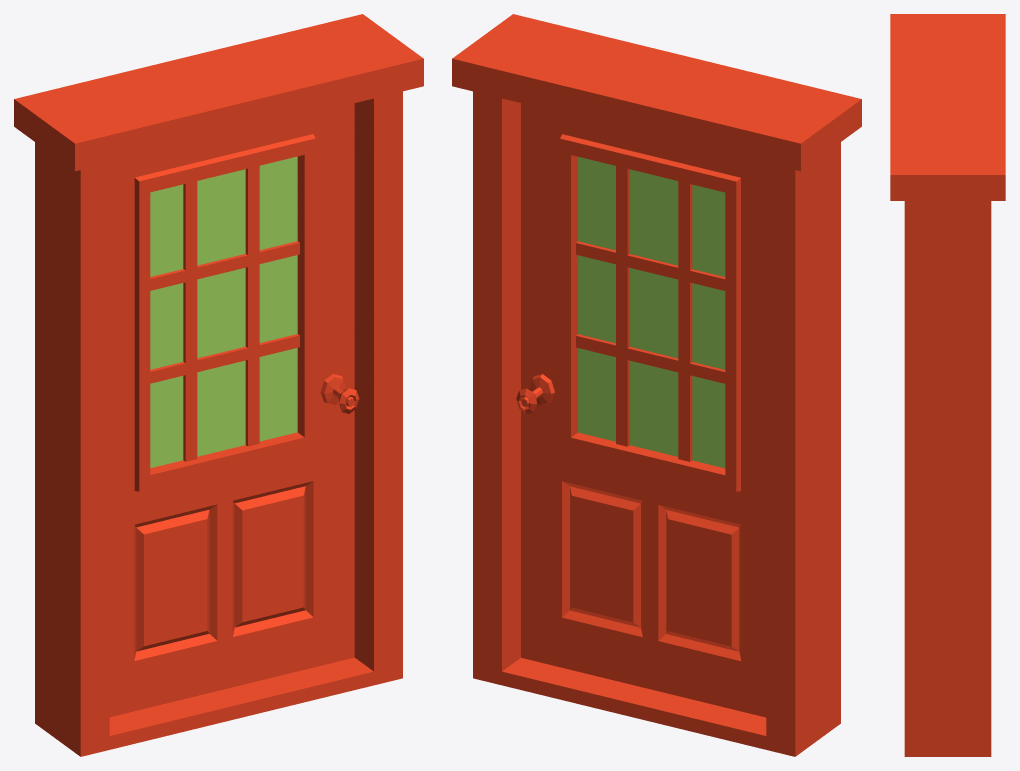
File: SM_Door_Single_A_Regular_Survival.fbx
3 views of the same model, side by side, from view 1: azimuth 30°, elevation 25°; view 2: azimuth 150°, elevation 25°; view 3: azimuth 270°, elevation 25° (orthographic). The views are drawn at different scales.
Visible parts, largest first — view 1: door-single-a-regular-door-survival, door-single-a-regular-frame-survival; view 2: door-single-a-regular-door-survival, door-single-a-regular-frame-survival; view 3: door-single-a-regular-frame-survival.
Boxes of the visible parts, x1,y1,x2,y2 form: door-single-a-regular-door-survival: [109, 103, 359, 717]; door-single-a-regular-frame-survival: [14, 14, 423, 756]; door-single-a-regular-door-survival: [516, 103, 766, 717]; door-single-a-regular-frame-survival: [452, 14, 861, 756]; door-single-a-regular-frame-survival: [890, 14, 1005, 756].
Size of the model in its own units: 1.32 by 2.25 by 0.4.
